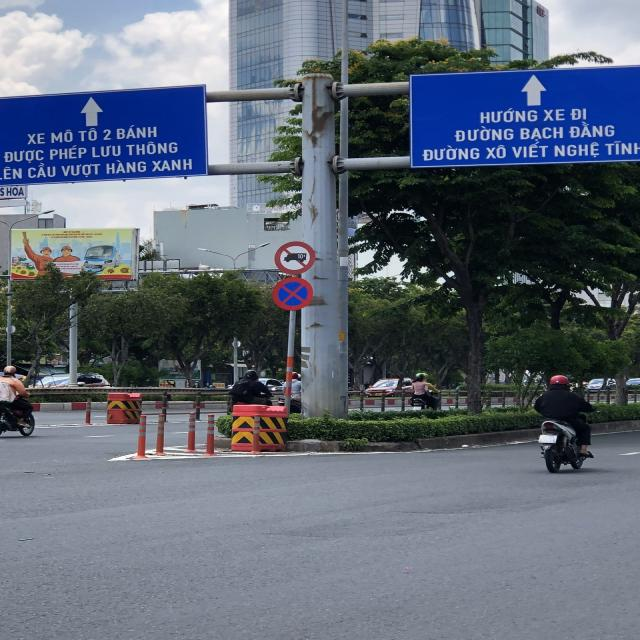Bien bao cam dung xe va do xe: (270, 276, 316, 314)
Bien bao cam xe oto tai: (274, 238, 318, 275)
